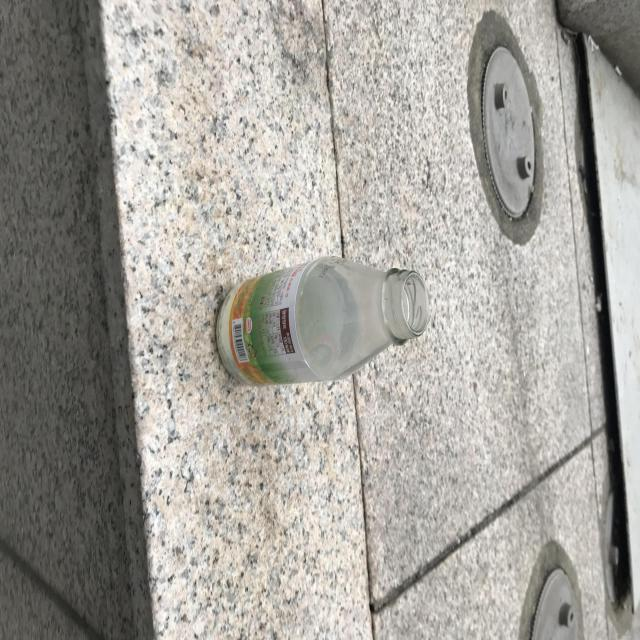glass: (217, 256, 430, 386)
